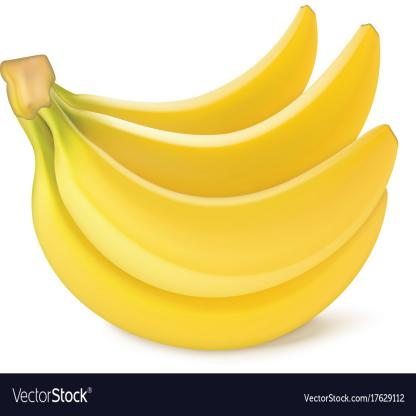---: (0, 0, 416, 360)
